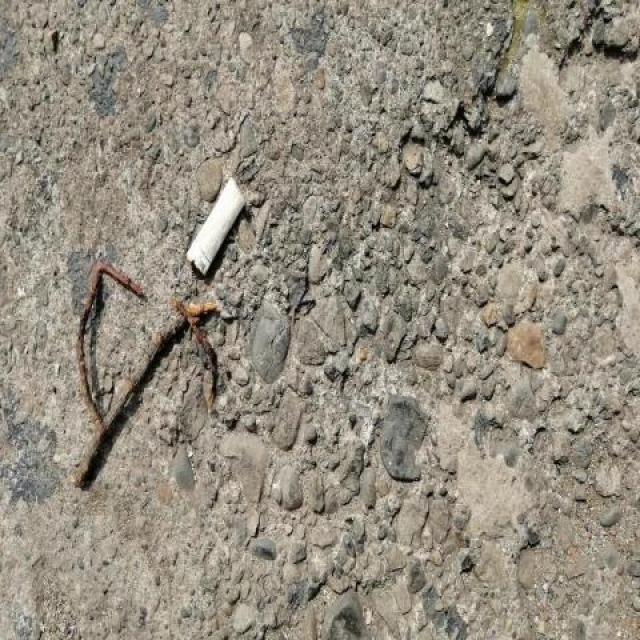non-organic waste: (184, 173, 249, 276)
